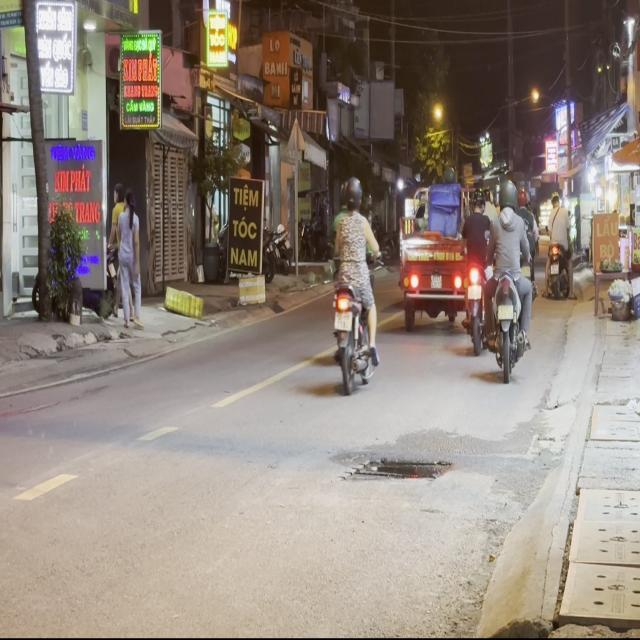helmet: (341, 176, 361, 210), (497, 178, 517, 210)
licenseplate: (327, 174, 381, 391), (486, 177, 534, 378), (459, 181, 494, 357)
nohelmet: (334, 310, 351, 330), (498, 303, 512, 319), (467, 284, 480, 298)
